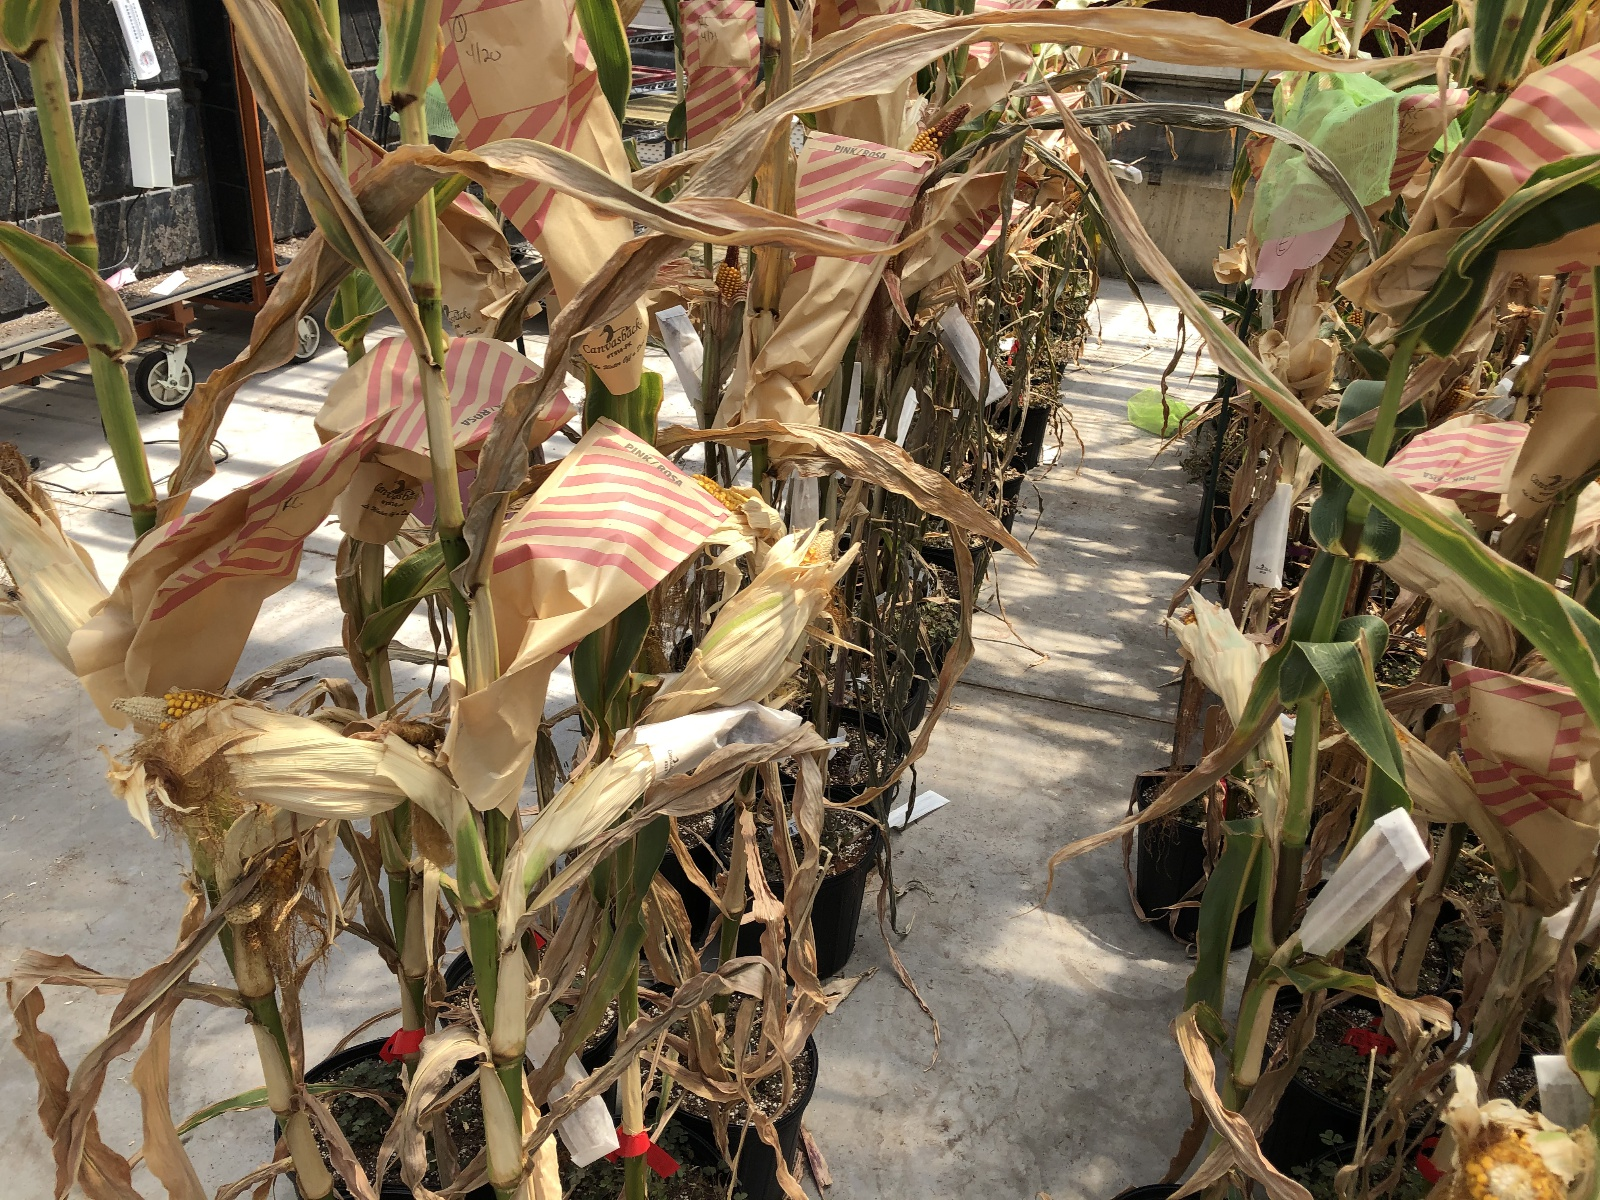ear: (108, 687, 386, 816), (688, 521, 840, 700), (1178, 599, 1280, 788), (220, 838, 310, 926), (1464, 1129, 1579, 1197), (908, 100, 981, 158), (693, 463, 752, 516), (711, 241, 750, 296)
